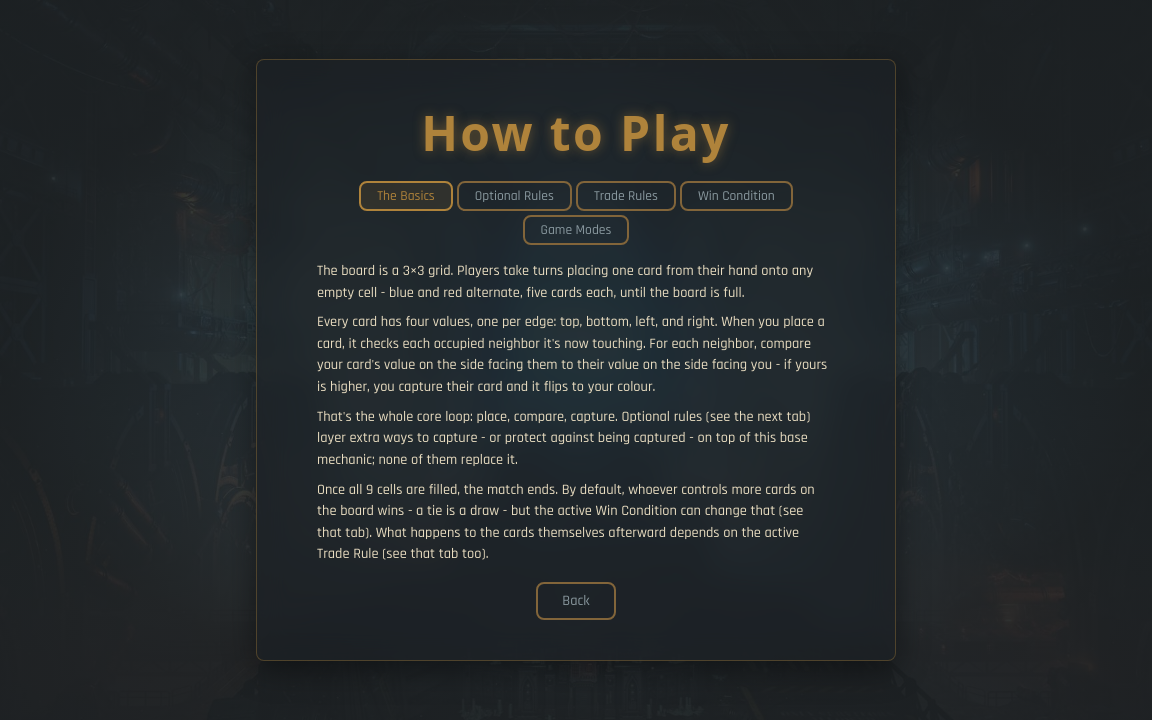
Test case: HowToPlayScreen tabs › switches to Trade Rules content when that tab is clicked
The width and height of the screenshot is (1152, 720).
Click the tab "Trade Rules" at (626, 196), box [576,181,676,211]
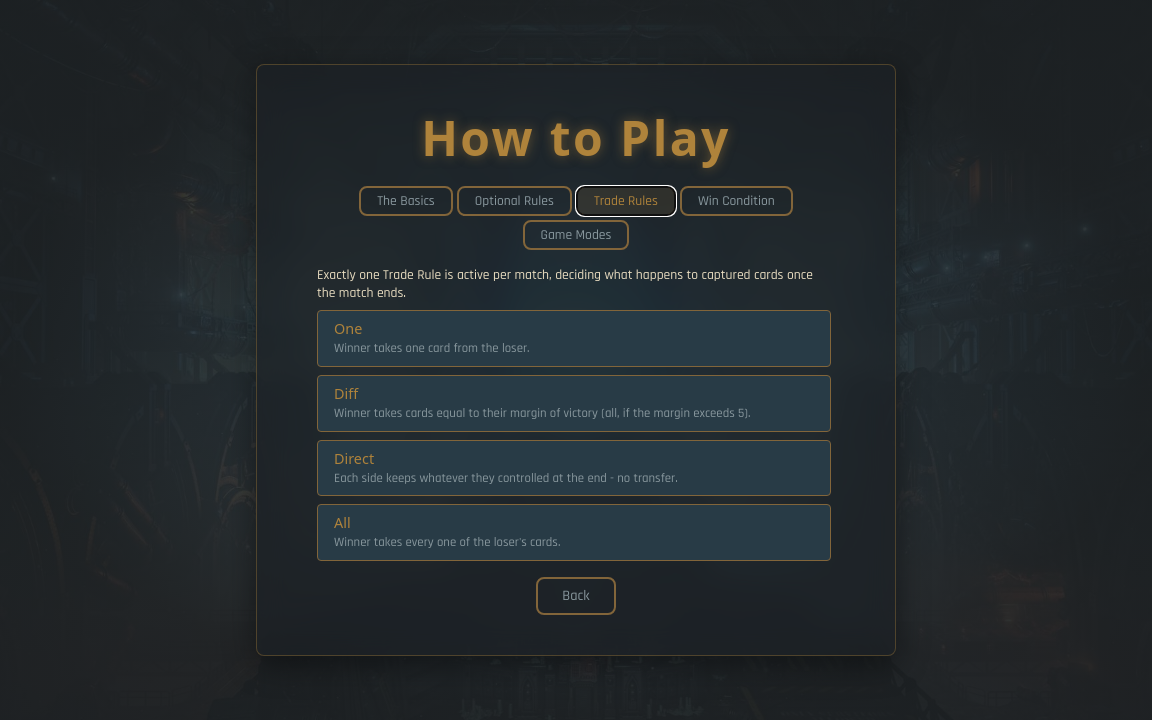
Now the text "Exactly one Trade Rule is active per match" is shown, box [317,266,813,302]
